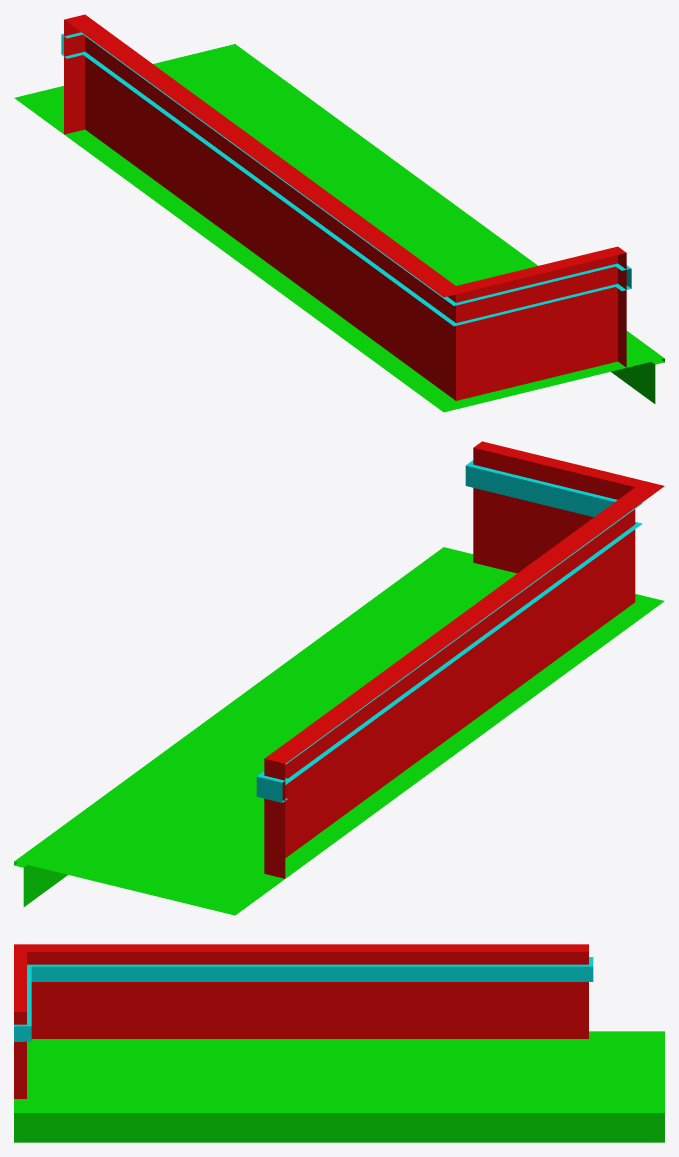
File: Station_Start.fbx
The picture shows the model from 3 angles, top to bottom: view 1: azimuth 30°, elevation 25°; view 2: azimuth 150°, elevation 25°; view 3: azimuth 270°, elevation 25°; orthographic projection. The views are drawn at different scales.
Parts seen in each view (by area): view 1: Terminal2; view 2: Terminal2; view 3: Terminal2.
Boxes of the visible parts, x1,y1,x2,y2 form: Terminal2: (14, 14, 664, 412); Terminal2: (14, 441, 664, 915); Terminal2: (14, 944, 664, 1142).
Size of the model in its own units: 57.87 by 39.69 by 195.
